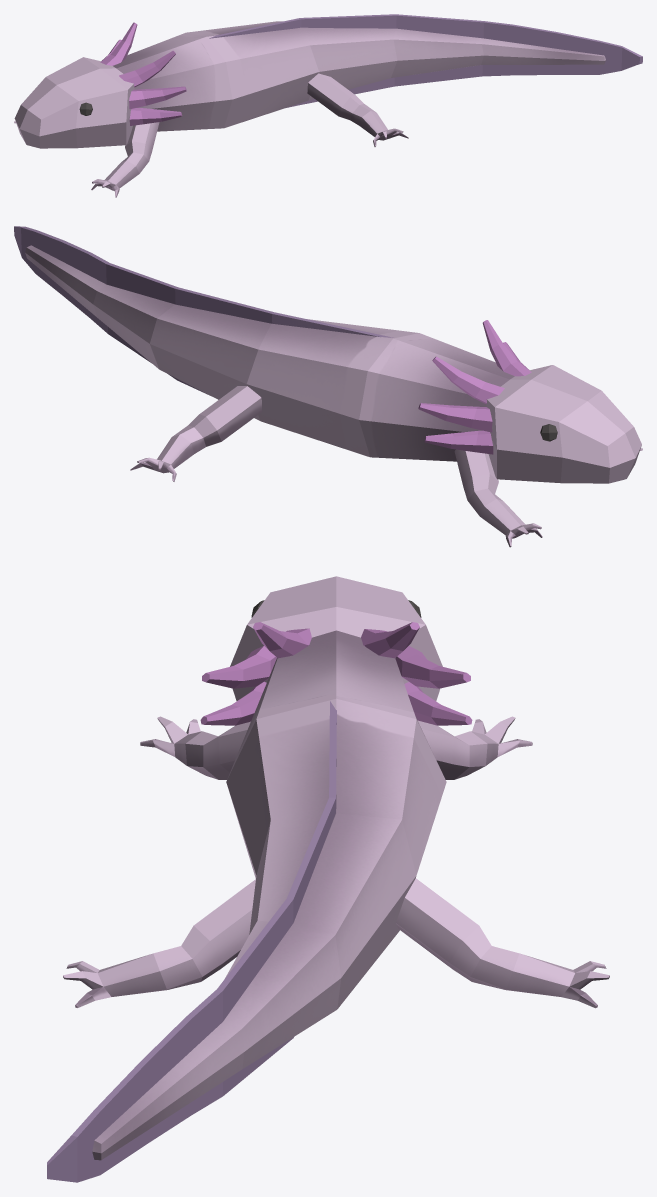
Rendered from statue axolotl.fbx.
3 renders of one model, top to bottom at view 1: azimuth 30°, elevation 25°; view 2: azimuth 150°, elevation 25°; view 3: azimuth 270°, elevation 25°, orthographic. The views are drawn at different scales.
Parts seen in each view (by area): view 1: body, tail, achter poten, voor poten, Cylinder.002, Cylinder.001, horns; view 2: body, tail, achter poten, voor poten, Cylinder.002, Cylinder.001, horns; view 3: body, achter poten, tail, voor poten, Cylinder.001, horns, Cylinder.002.
Boxes of the visible parts, x1,y1,x2,y2 form: body: [14, 21, 605, 148]; tail: [209, 14, 642, 107]; achter poten: [307, 73, 408, 146]; voor poten: [14, 121, 159, 197]; Cylinder.002: [100, 22, 175, 87]; Cylinder.001: [102, 39, 186, 109]; horns: [129, 108, 182, 125]; body: [25, 245, 641, 483]; tail: [14, 226, 393, 395]; achter poten: [130, 386, 262, 481]; voor poten: [454, 448, 642, 547]; Cylinder.002: [432, 320, 531, 403]; Cylinder.001: [418, 342, 529, 432]; horns: [424, 430, 493, 454]; body: [92, 576, 446, 1160]; achter poten: [63, 878, 609, 1008]; tail: [47, 701, 336, 1182]; voor poten: [140, 716, 532, 779]; Cylinder.001: [202, 646, 470, 688]; horns: [200, 681, 472, 725]; Cylinder.002: [253, 622, 419, 658].
Size of the model in its own units: 286 by 54.07 by 127.
